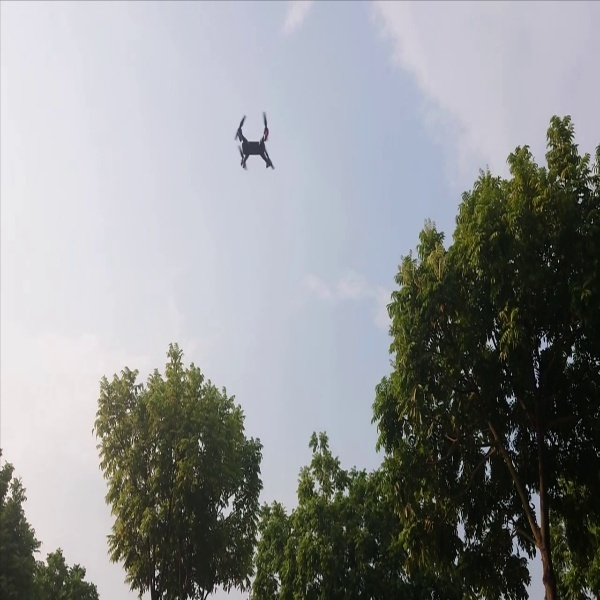drone: (228, 106, 285, 176)
